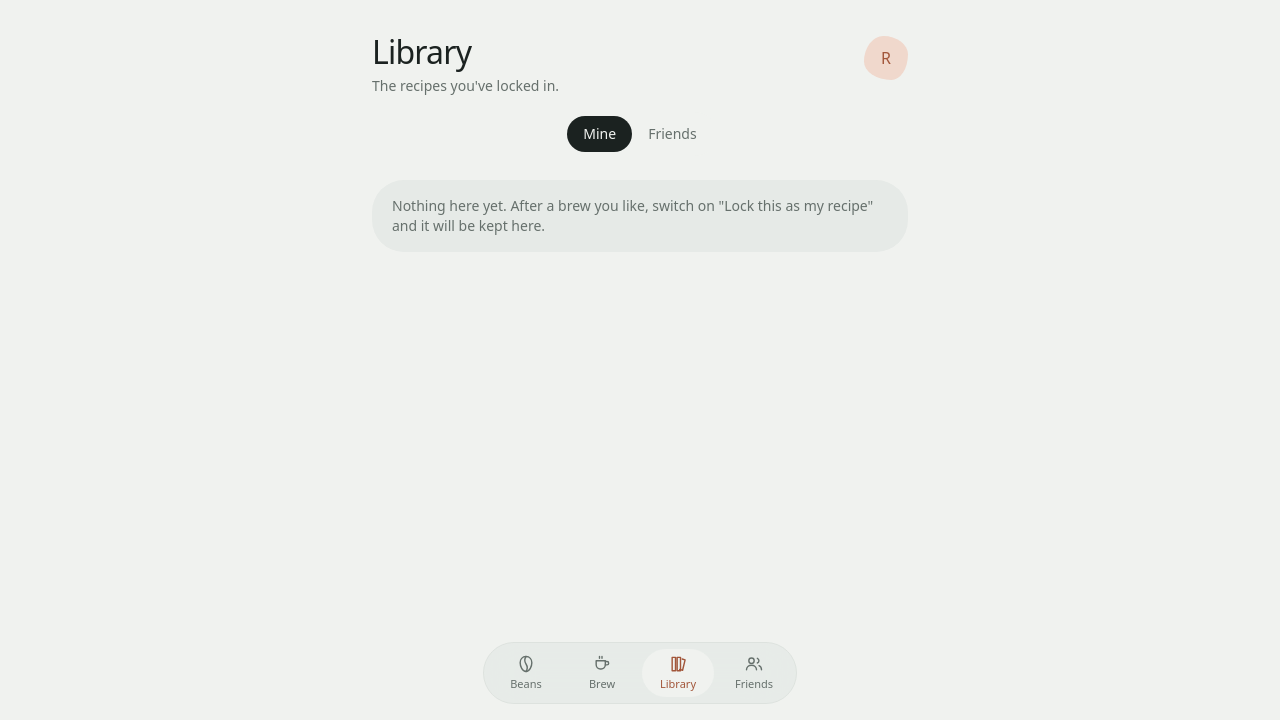
Test: Library: Friends › opens the recipe in full when you tap it
Step 1. Click the radio button labelled "Friends" → [672, 134], box [632,116,713,152]
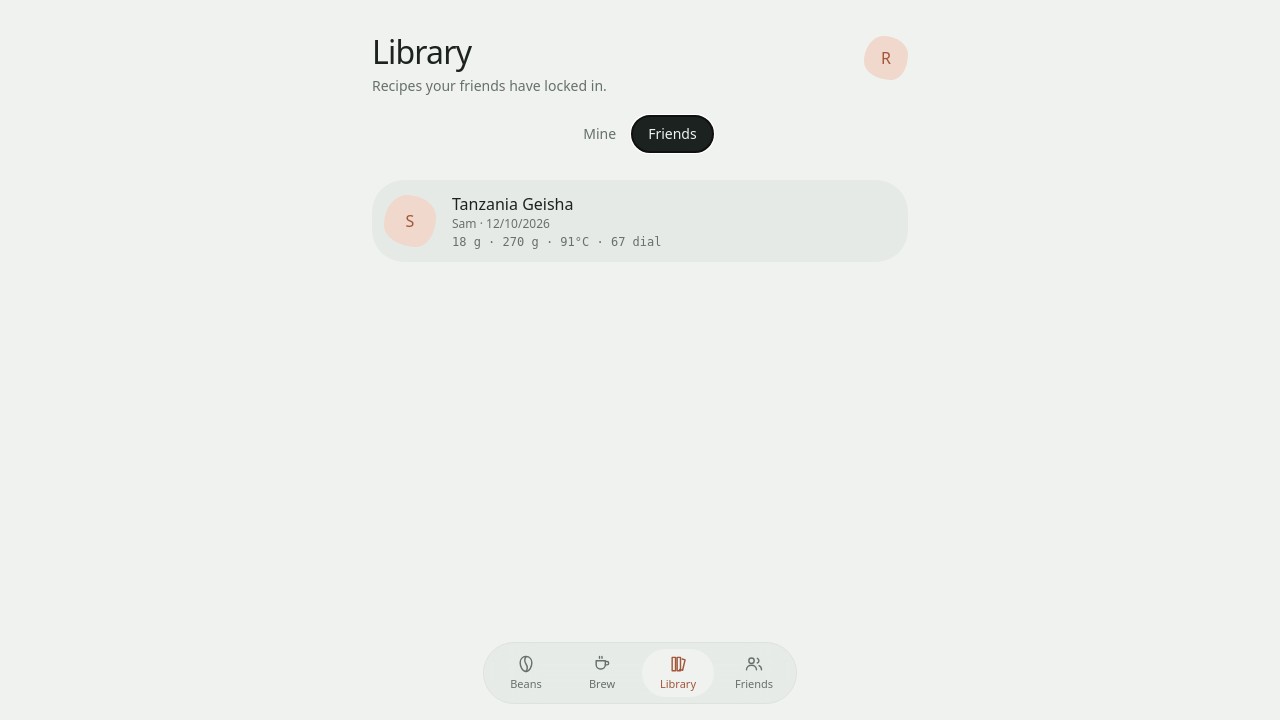
Step 2. Click the button with aria-label "Tanzania Geisha from Sam: see the recipe" → [410, 221], box [372,180,908,262]
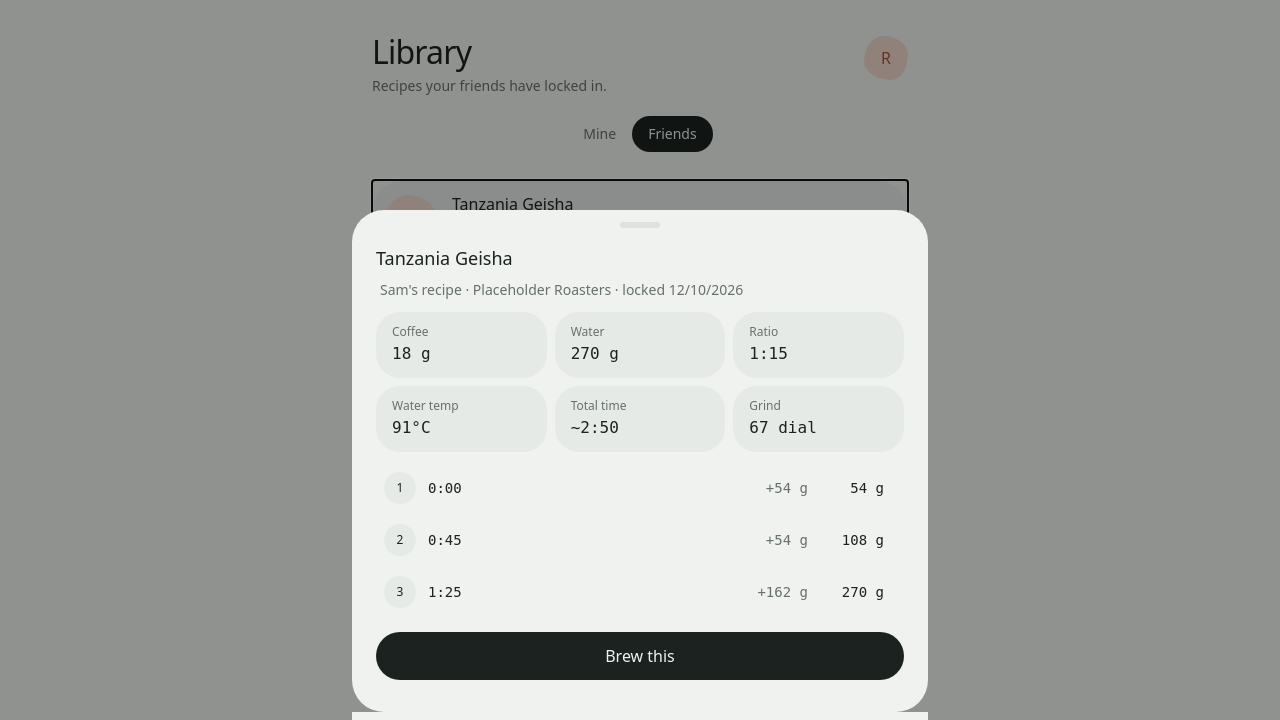
Expected: the text "18 g" is shown, [392,344,430,363]
Expected: the text "270 g" next to "1:15" is shown, [571,344,619,363]
Expected: the text "1:15" is shown, [749,344,788,363]
